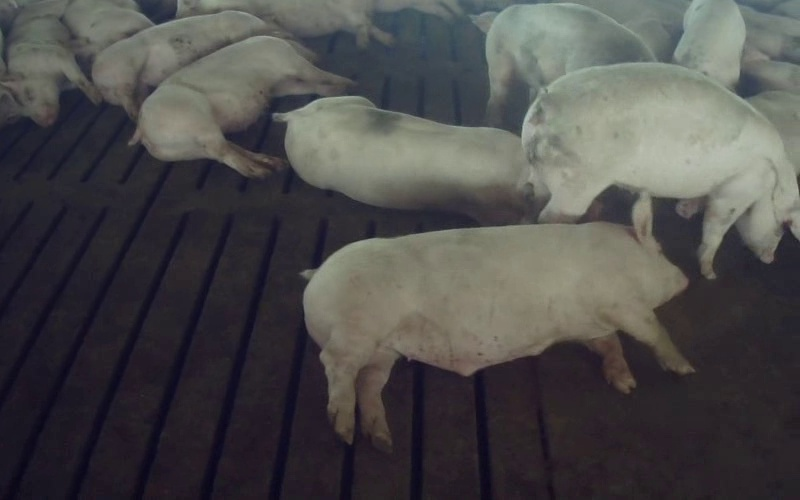pig: (305, 195, 691, 449), (275, 96, 535, 224), (130, 36, 353, 177), (92, 11, 288, 118), (486, 3, 654, 126), (177, 0, 392, 47), (673, 0, 745, 90), (63, 0, 153, 57)
